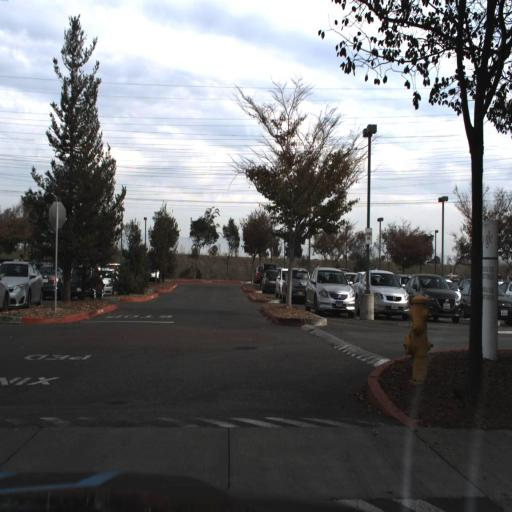car: (405, 271, 460, 321), (359, 270, 409, 317), (461, 278, 509, 326), (305, 269, 354, 314), (0, 256, 43, 305), (4, 258, 41, 311), (70, 265, 105, 301), (38, 259, 64, 302), (279, 267, 307, 305), (283, 270, 314, 301), (42, 265, 62, 303), (98, 265, 119, 296), (262, 269, 279, 297), (273, 265, 286, 300), (0, 280, 10, 316), (262, 271, 277, 294), (100, 273, 113, 298)
